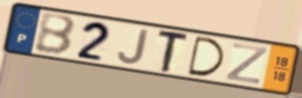2: (73, 19, 113, 64)
B: (34, 12, 78, 57)
D: (186, 34, 227, 78)
J: (116, 28, 150, 66)
T: (156, 30, 192, 74)
Z: (224, 41, 270, 86)
